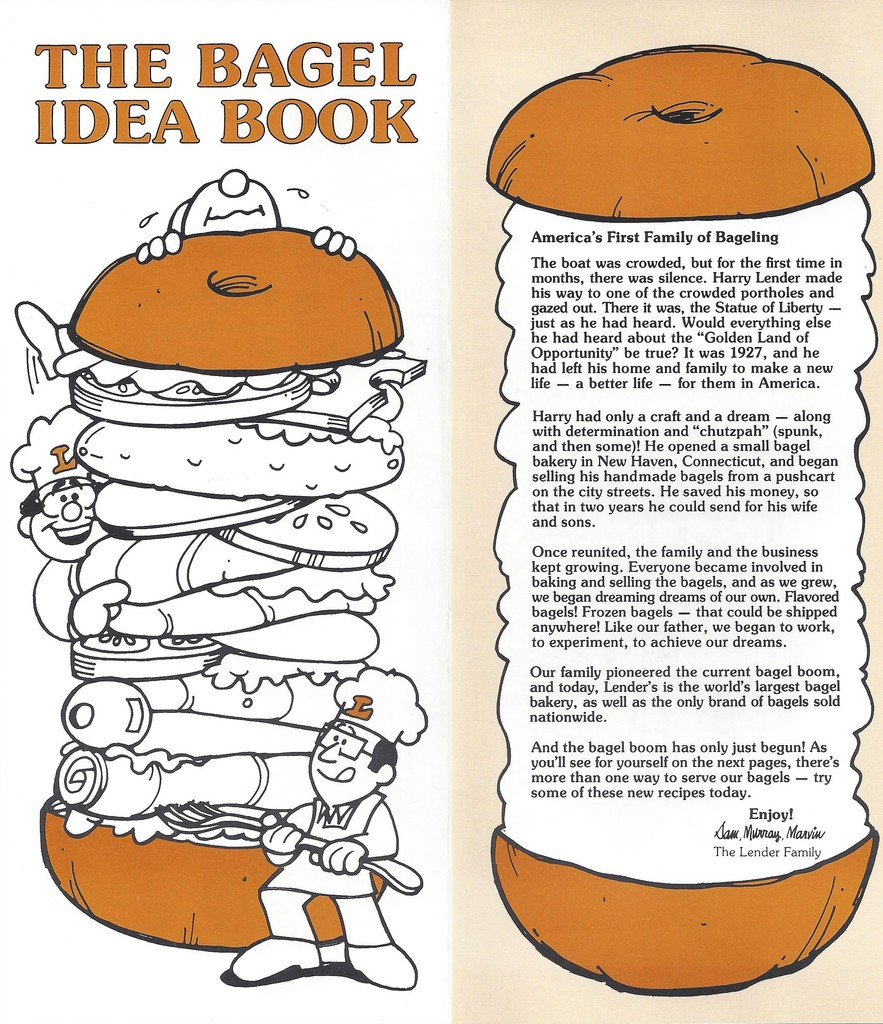sandwich: (482, 42, 880, 1000), (38, 227, 436, 962)
